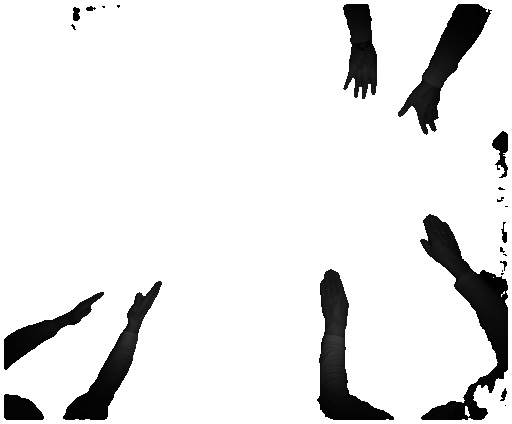hand: (416, 208, 467, 274), (336, 47, 383, 103), (393, 86, 445, 135), (320, 264, 351, 325)
spine: (125, 280, 167, 328), (57, 288, 103, 330)
